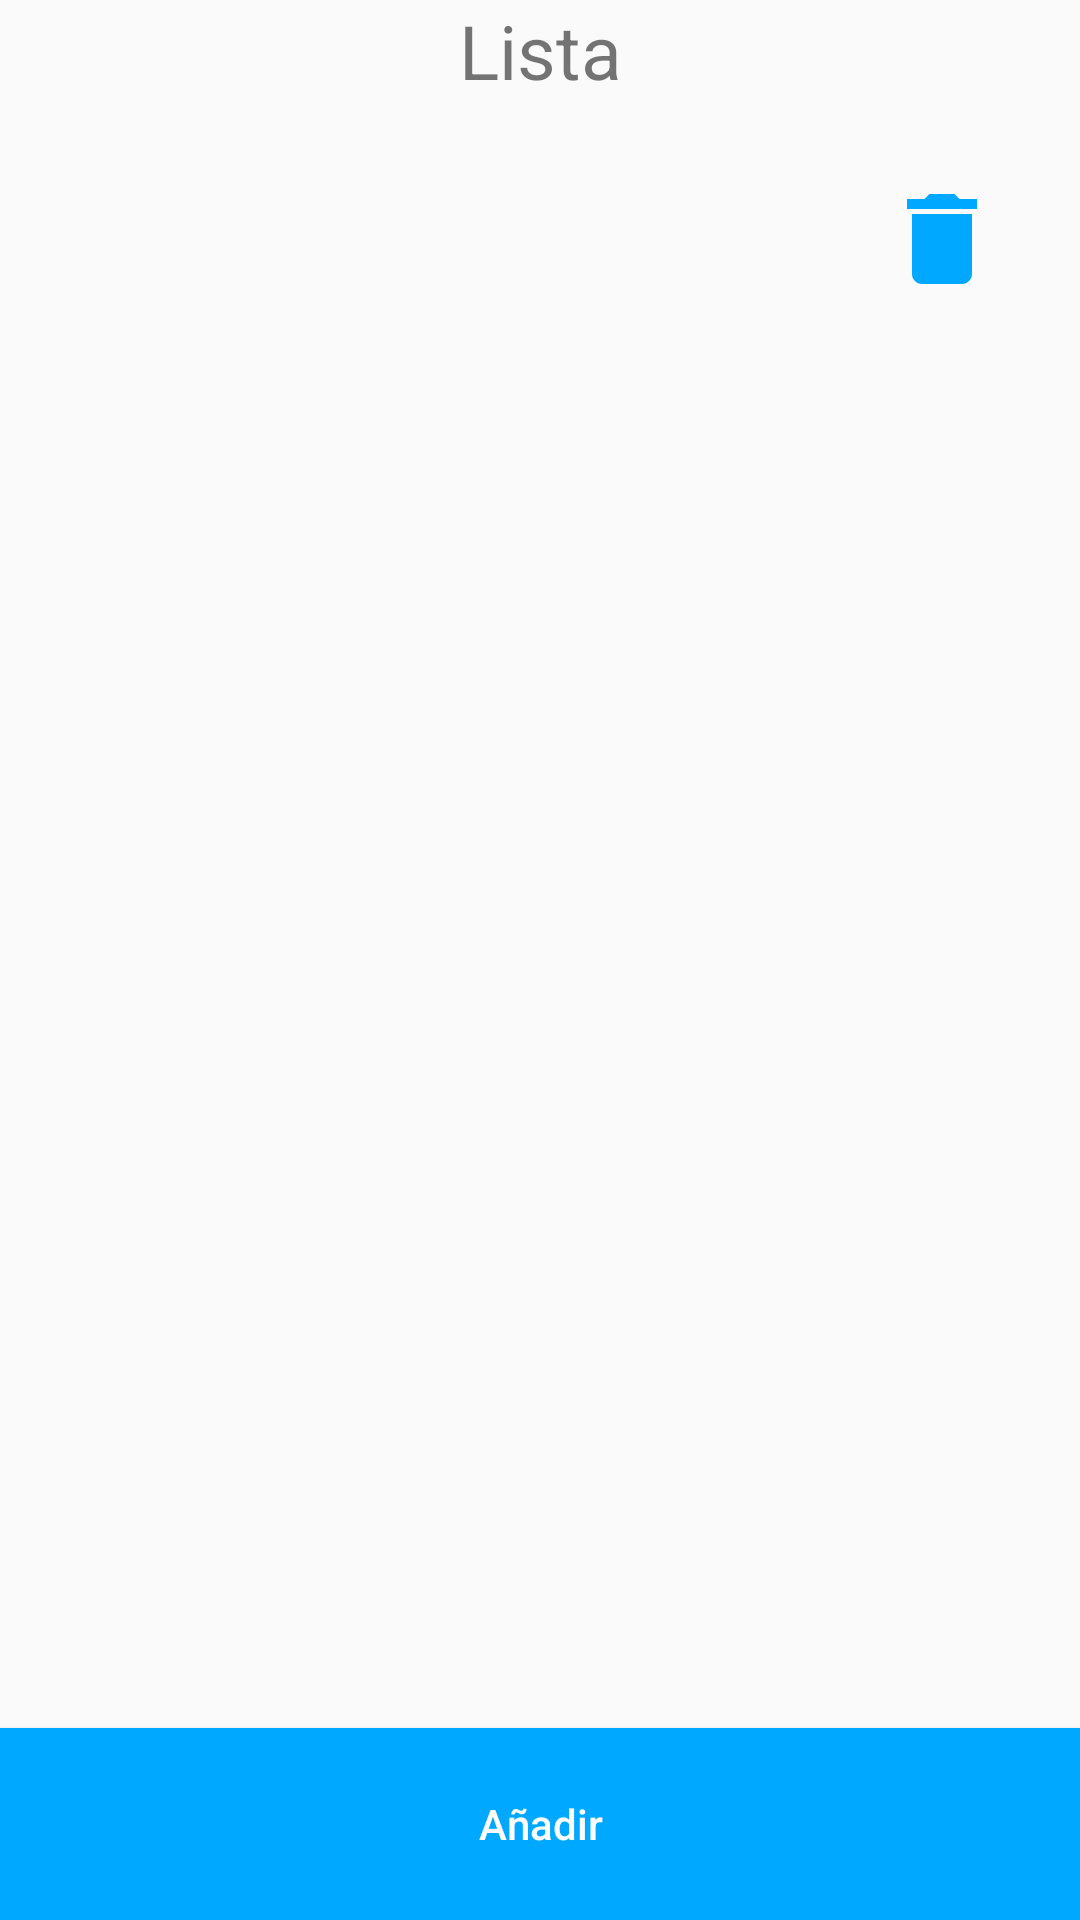

Named icons in this screenshot (1080*1920) and their centers, (x,y):
delete: (942,239)
